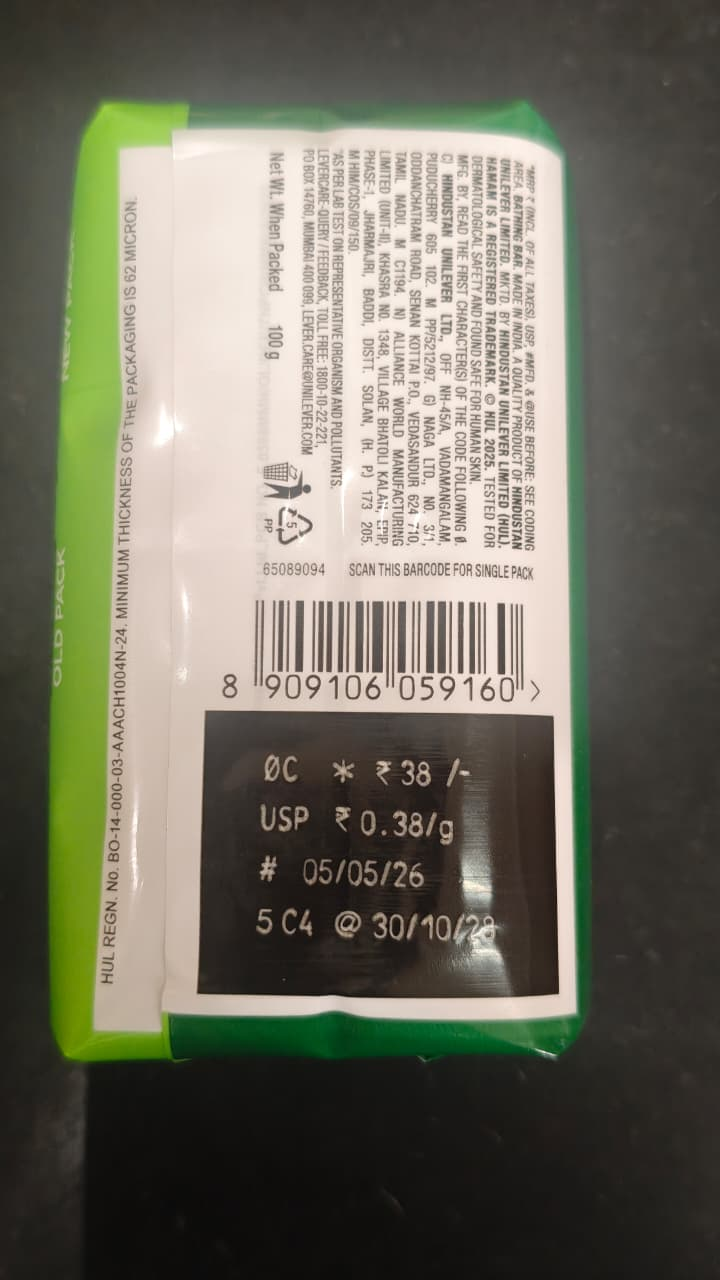EXP_Date: (374, 906, 511, 955)
MFG_Date: (294, 858, 444, 901)
MRP: (358, 748, 484, 797)
